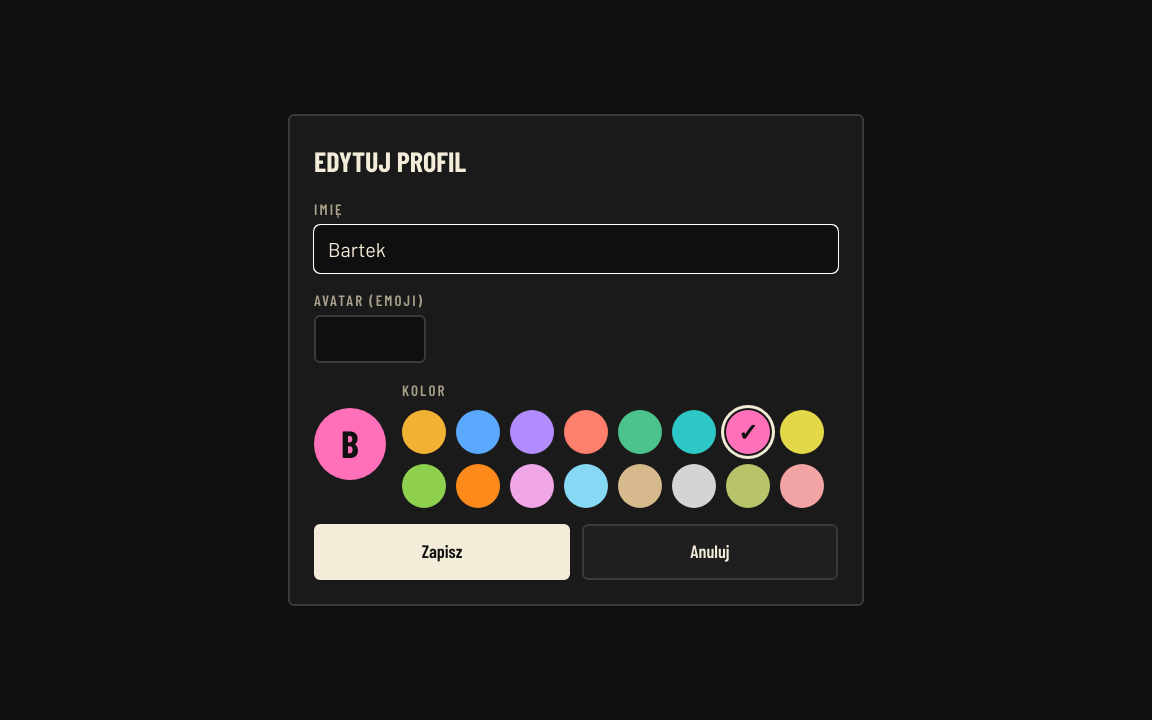
Test: EditPlayerDialog › shows a taken name under the name field and stays open until the name changes
Replace the text in the field labelled "Imię" with "Anna" at (576, 249), box [314,225,838,273]
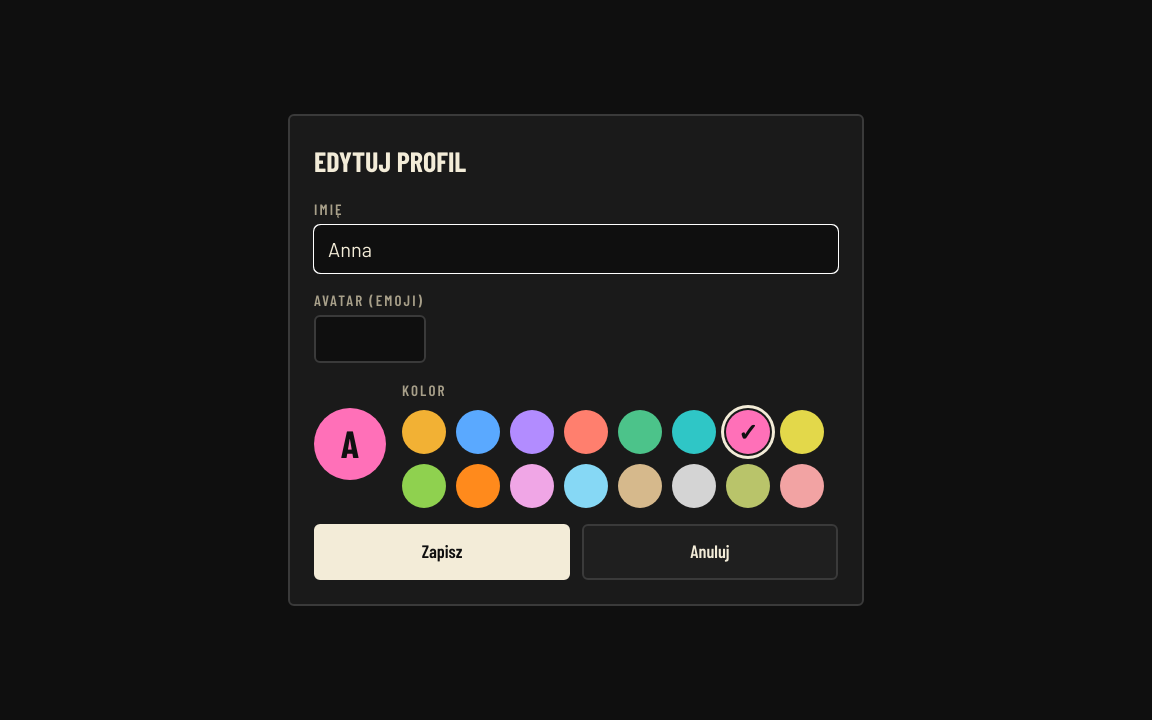
Click the button "Zapisz" at (442, 552), box [314,524,570,580]
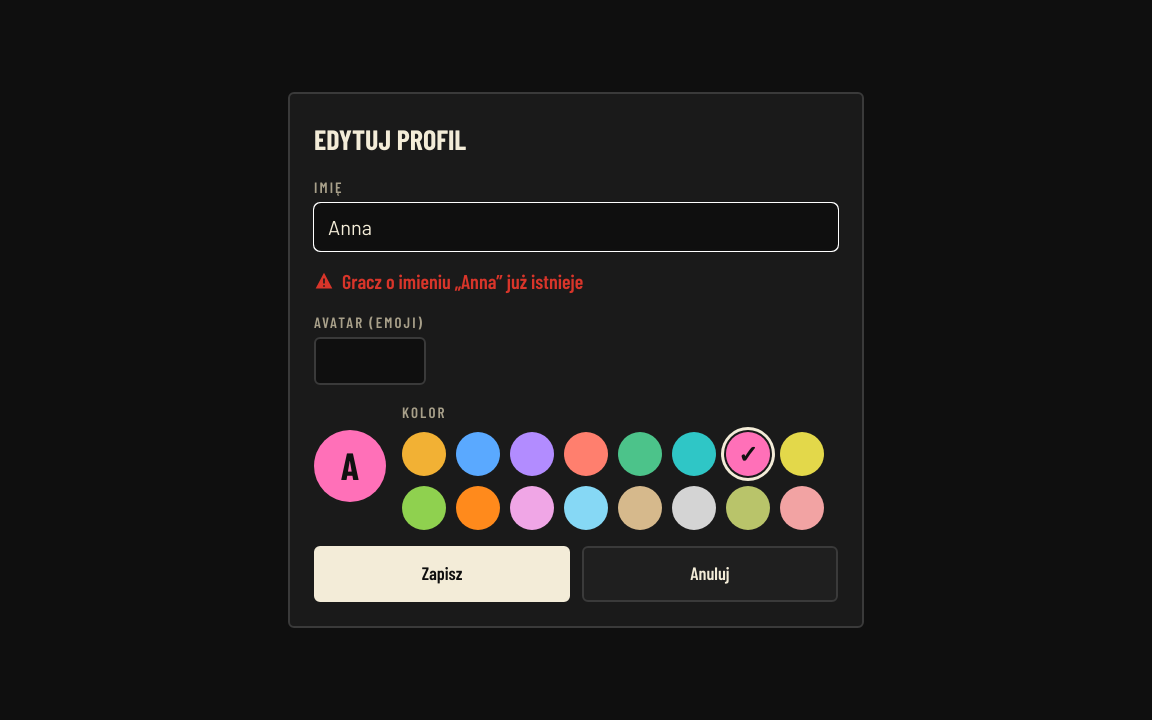
Expected: the dialog is shown, [288,92,864,628]
Expected: the field labelled "Imię" is marked as invalid
Replace the text in the field labelled "Imię" with "Annabel" at (576, 227), box [314,203,838,251]
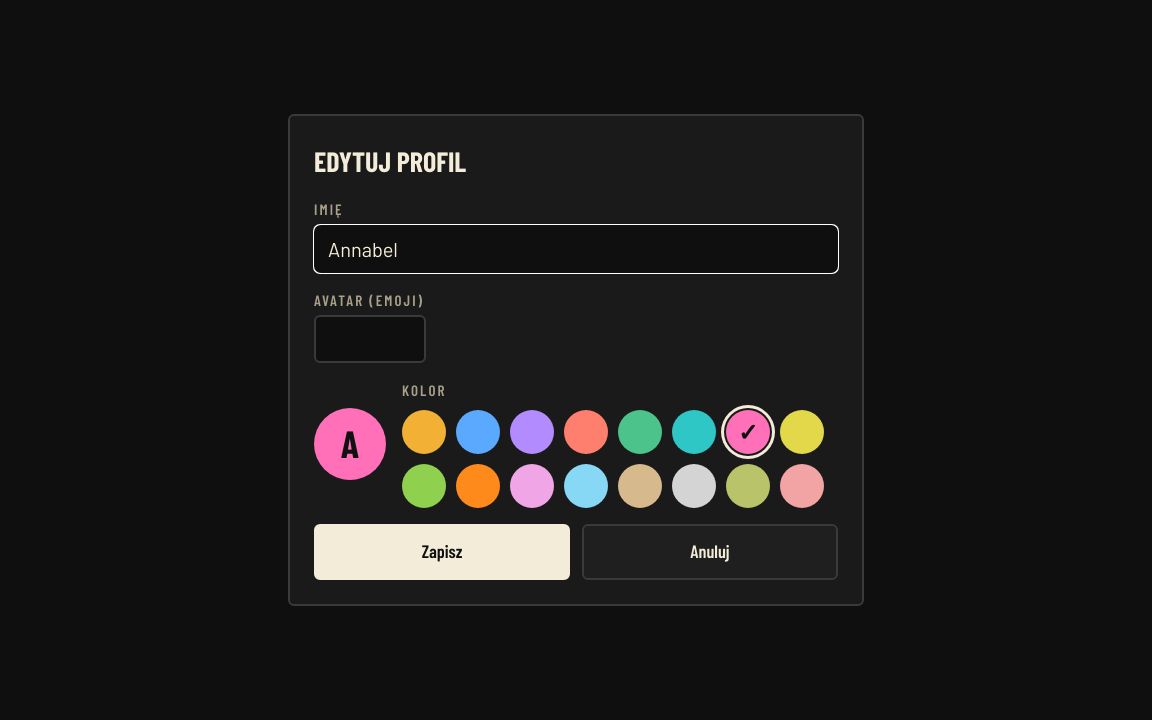
Expected: the text "Gracz o imieniu „Anna” już istnieje" is gone
